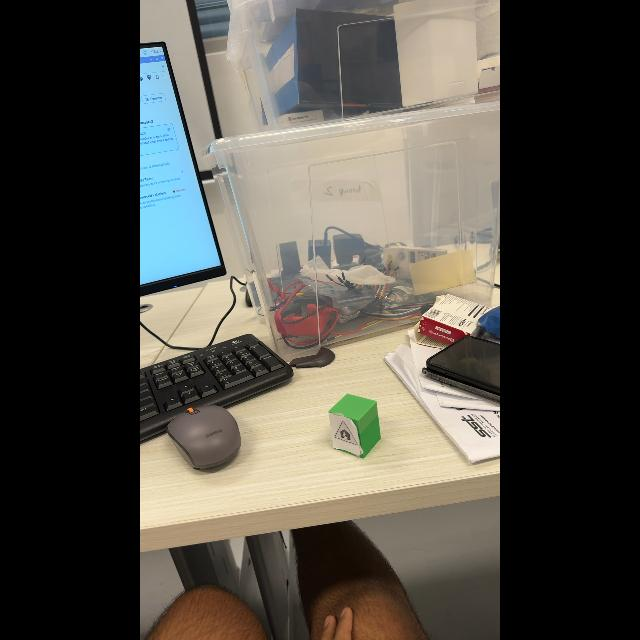Earthquake: (335, 421, 358, 445)
